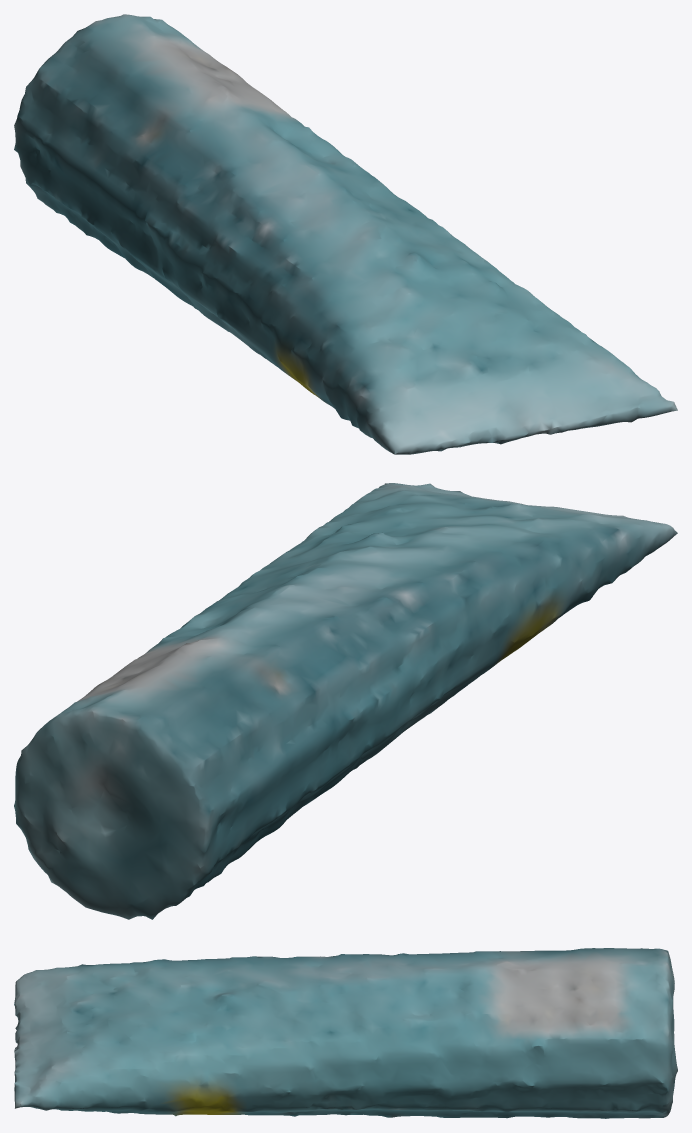
The model's file is oil.glb.
3 renders of one model, top to bottom at view 1: azimuth 30°, elevation 25°; view 2: azimuth 150°, elevation 25°; view 3: azimuth 270°, elevation 25°, orthographic. The views are drawn at different scales.
Size of the model in its own units: 0.383 by 0.2504 by 0.9946.
